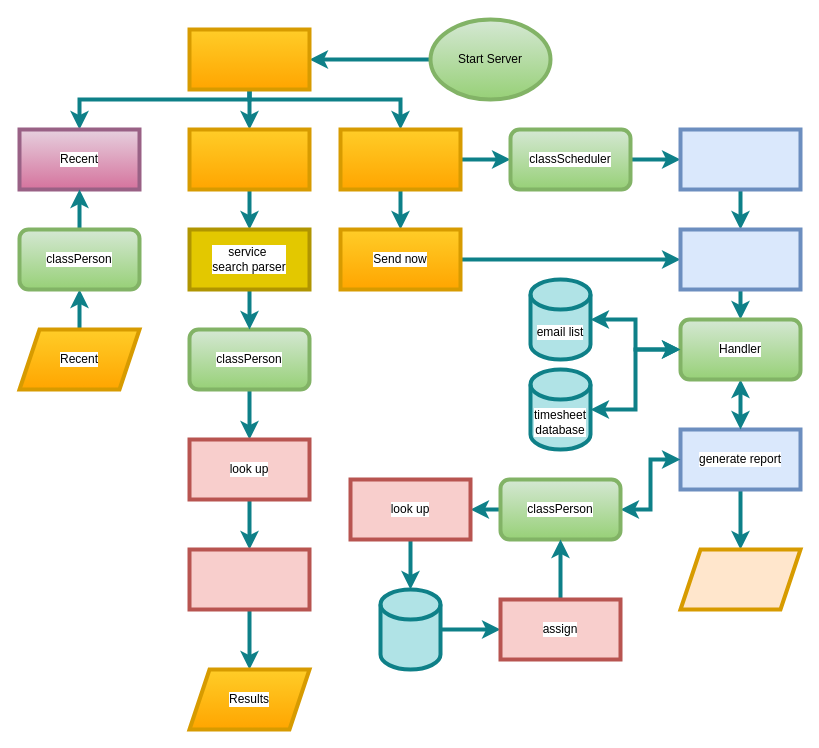
Image size: 819x748. Some labels were removed from this diagram. The shapes that lost their labels are listed below. From the top down, each one's centre as x and y in pixels, then its label:
the point at 249,59: Route: Reports
the point at 249,159: Search
the point at 400,159: Send Reports
the point at 740,159: time check
the point at 740,259: get emails
the point at 249,579: timesheet check
the point at 740,579: Send Emails
the point at 410,629: people database
